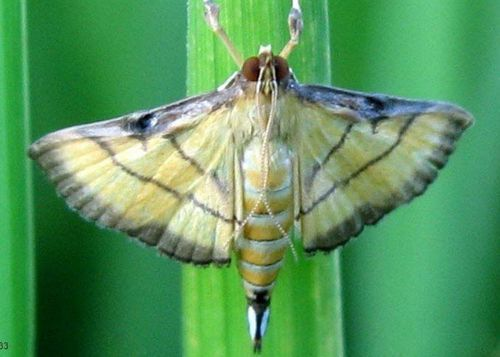Crambidae: (28, 8, 481, 350)
